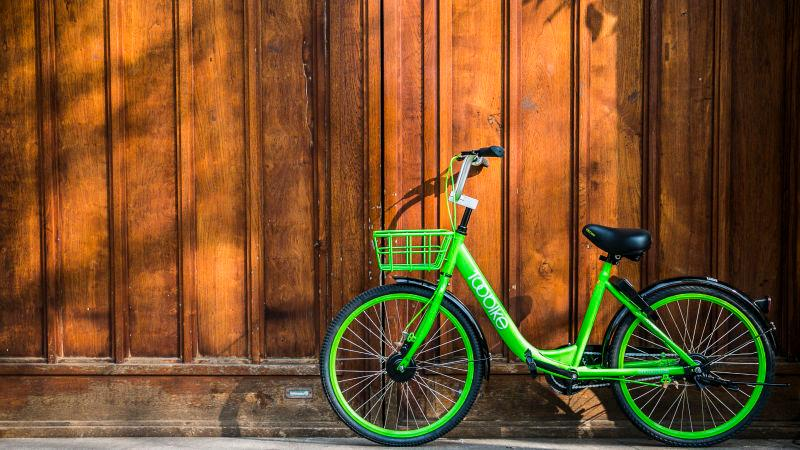单车: (320, 126, 782, 450)
